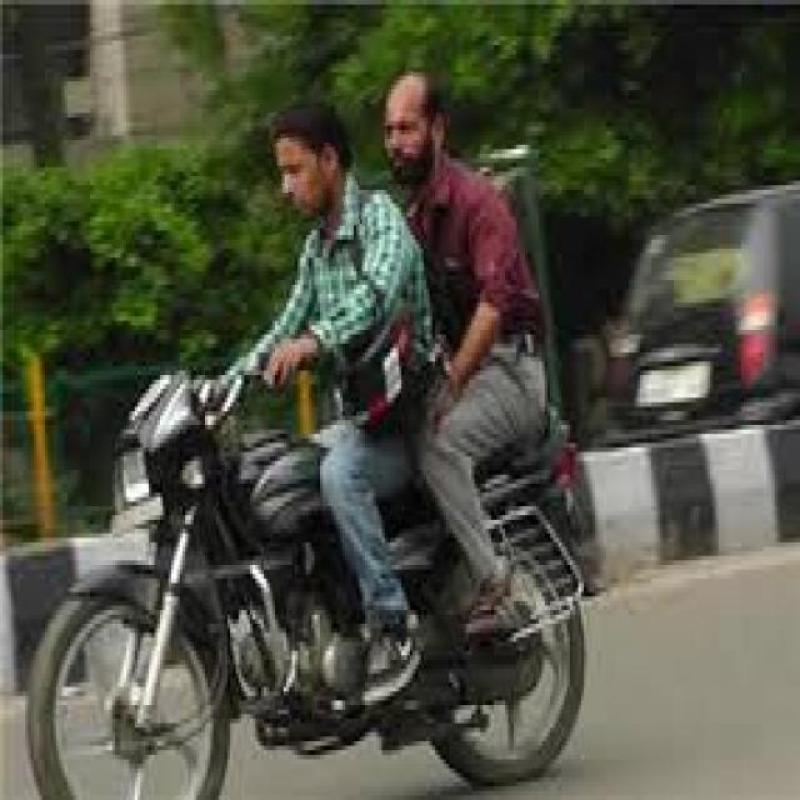nohelmet: (263, 97, 359, 231), (372, 60, 453, 186)
